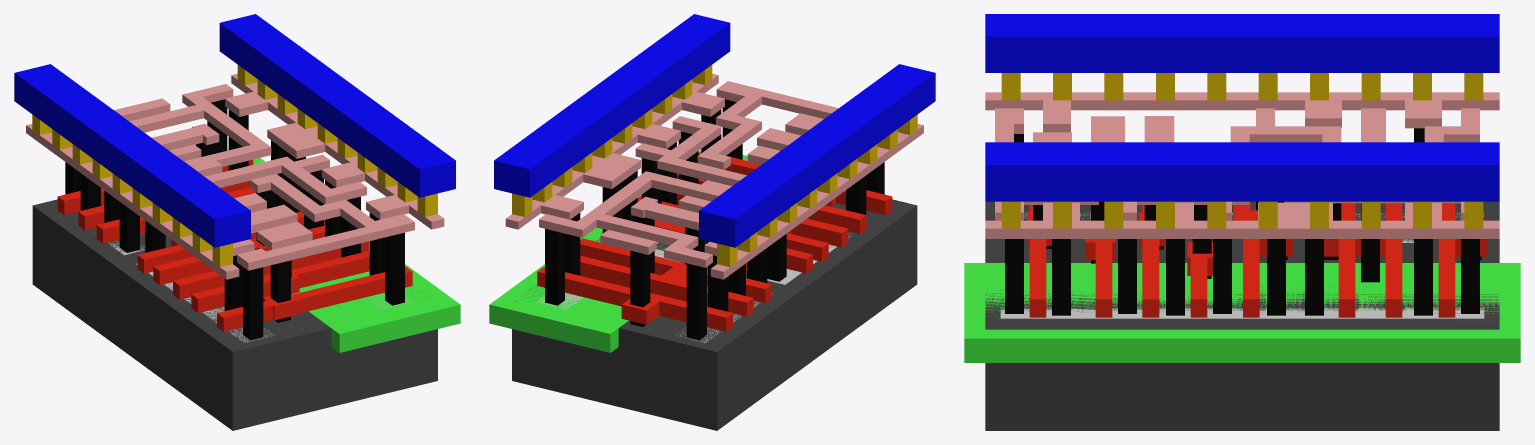
File: sky130_fd_sc_hd__and4bb_2.obj
3 renders of one model, left to right at view 1: azimuth 30°, elevation 25°; view 2: azimuth 150°, elevation 25°; view 3: azimuth 270°, elevation 25°, orthographic. The views are drawn at different scales.
Parts seen in each view (by area): view 1: subs, metal1, li, poly, licon, nwell, mcon, diff; view 2: subs, metal1, li, poly, licon, nwell, mcon, diff; view 3: metal1, subs, nwell, li, licon, poly, mcon, tap.
Boxes of the visible parts, x1,y1,x2,y2 form: subs: (32, 199, 437, 430); metal1: (14, 14, 455, 247); li: (26, 73, 444, 279); poly: (57, 159, 412, 331); licon: (65, 99, 404, 340); nwell: (227, 149, 460, 352); mcon: (32, 65, 437, 266); diff: (108, 241, 274, 342); subs: (512, 199, 917, 430); metal1: (494, 14, 935, 247); li: (505, 73, 923, 279); poly: (537, 152, 892, 331); licon: (545, 99, 884, 340); nwell: (489, 150, 747, 352); mcon: (512, 65, 917, 266); diff: (676, 234, 852, 342); metal1: (985, 14, 1499, 201); subs: (985, 201, 1499, 430); nwell: (964, 263, 1520, 362); li: (985, 92, 1499, 238); licon: (1005, 128, 1481, 315); poly: (1027, 202, 1487, 317); mcon: (1001, 73, 1483, 228); tap: (1000, 305, 1484, 318).
Bounding box in the file's own units: 3.2 × 2.74 × 4.98.
